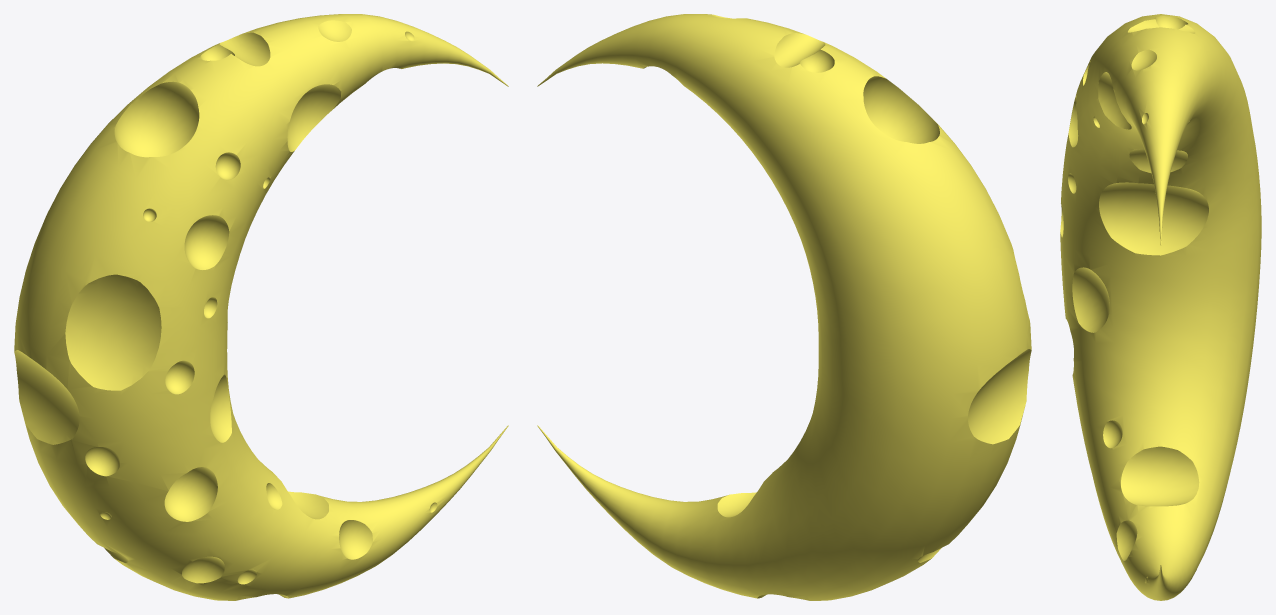
File: cheese_moon.glb
3 renders of one model, left to right at view 1: azimuth 30°, elevation 25°; view 2: azimuth 150°, elevation 25°; view 3: azimuth 270°, elevation 25°, orthographic. The views are drawn at different scales.
Bounding box in the file's own units: 4.27 × 4.82 × 1.65.
